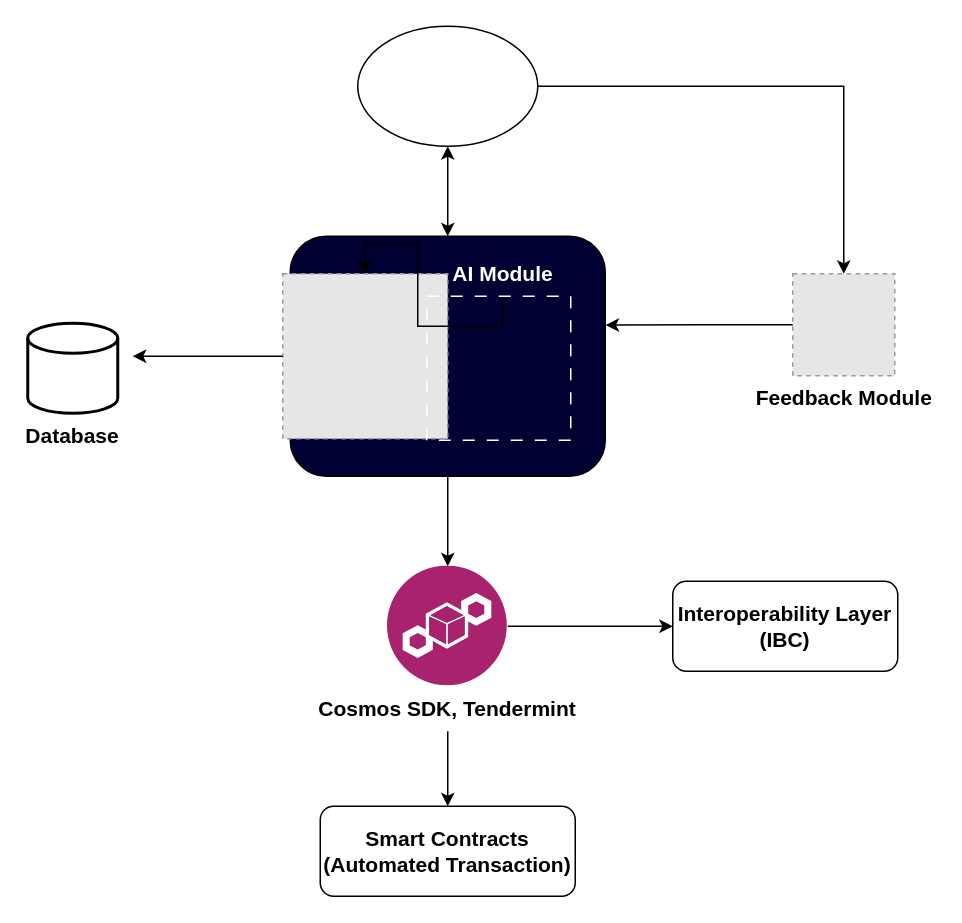
Image size: 962x923. Some labels were removed from this diagram. Grey dashed boxes stand in for pictures. Here are the shapes that lost their labels. From the top down, the centre of each, then its label:
At pixel 447 85: "Web UI".
At pixel 498 367: "Recommendation Engine NLP Automation ML Modules".
